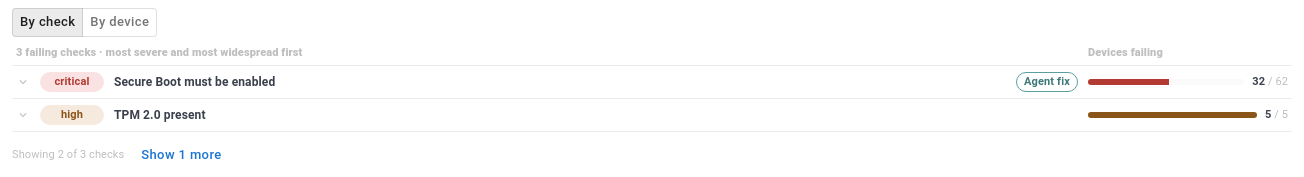
CategoryDrilldown — by device › is a paginated list of counts, not every device's checks
Expected: the text "Secure Boot must be enabled" is shown, top-left (114, 75), bottom-right (275, 89)
Click the button "By device". click: [120, 22]
box: top-left (82, 8), bottom-right (157, 37)
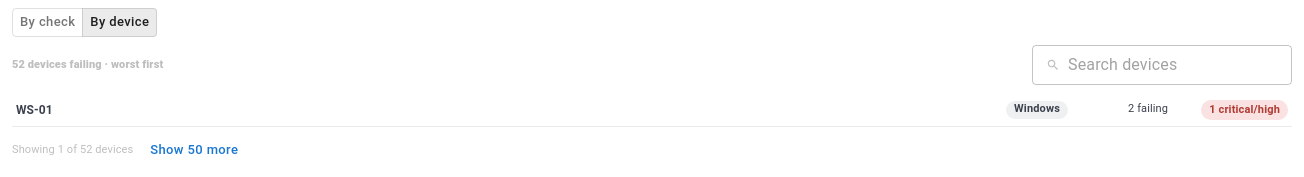
Expected: the text "WS-01" is shown, top-left (16, 102), bottom-right (53, 116)
Expected: the text "2 failing" is shown, top-left (1128, 102), bottom-right (1168, 115)
Expected: the text "1 critical/high" is shown, top-left (1209, 103), bottom-right (1280, 116)
